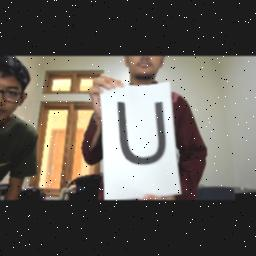u: (111, 96, 175, 168)
